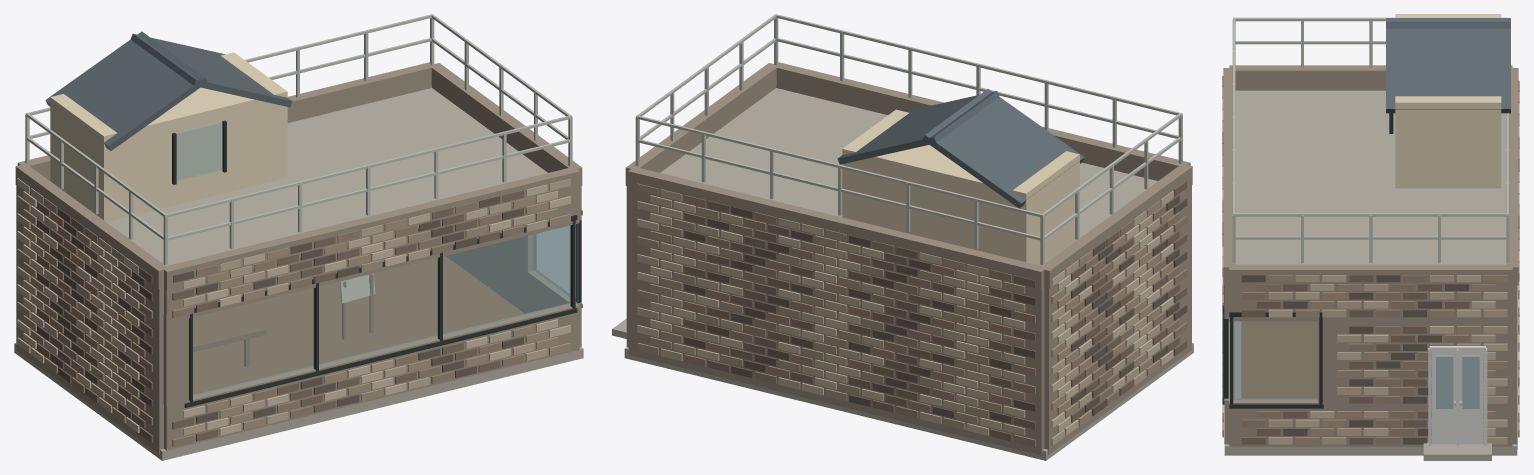
File: artist-workshop-180.glb
The picture shows the model from 3 angles, left to right: view 1: azimuth 30°, elevation 25°; view 2: azimuth 150°, elevation 25°; view 3: azimuth 270°, elevation 25°; orthographic projection.
Parts seen in each view (by area): view 1: front-clear-glass, roof-terrace-floor, upper-studio-walls, interior-floor, brick-color-5, brick-color-1, front-lower-brick, brick-color-2, brick-color-3, roof-left-slope, brick-color-4, brick-color-6 (+18 smaller); view 2: rear-wall, upper-studio-walls, roof-terrace-floor, brick-color-1, brick-color-5, brick-color-3, brick-color-2, brick-color-6, brick-color-4, rear-parapet, roof-left-slope, left-wall (+7 smaller); view 3: roof-terrace-floor, upper-studio-walls, roof-right-slope, side-clear-glass, right-rear-brick, interior-floor, right-lower-brick, brick-color-5, brick-color-6, right-upper-brick, right-parapet, brick-color-3 (+21 smaller).
Boxes of the visible parts, bbox=[...] form: front-clear-glass: bbox=[193, 225, 570, 397]; roof-terrace-floor: bbox=[107, 88, 547, 265]; upper-studio-walls: bbox=[50, 52, 287, 222]; interior-floor: bbox=[193, 256, 524, 394]; brick-color-5: bbox=[17, 178, 570, 435]; brick-color-1: bbox=[17, 195, 570, 429]; front-lower-brick: bbox=[164, 303, 579, 450]; brick-color-2: bbox=[37, 190, 523, 442]; brick-color-3: bbox=[17, 178, 570, 435]; roof-left-slope: bbox=[45, 31, 207, 150]; brick-color-4: bbox=[37, 196, 523, 423]; brick-color-6: bbox=[37, 201, 523, 447]; rear-wall: bbox=[628, 189, 1044, 455]; upper-studio-walls: bbox=[842, 109, 1079, 265]; roof-terrace-floor: bbox=[660, 88, 1157, 237]; brick-color-1: bbox=[637, 183, 1173, 429]; brick-color-5: bbox=[637, 191, 1173, 435]; brick-color-3: bbox=[637, 189, 1173, 445]; brick-color-2: bbox=[684, 181, 1187, 441]; brick-color-6: bbox=[684, 195, 1187, 447]; brick-color-4: bbox=[684, 195, 1187, 423]; rear-parapet: bbox=[628, 168, 1046, 289]; roof-left-slope: bbox=[922, 89, 1084, 208]; left-wall: bbox=[1044, 185, 1191, 454]; roof-terrace-floor: bbox=[1235, 90, 1506, 264]; upper-studio-walls: bbox=[1395, 14, 1501, 188]; roof-right-slope: bbox=[1386, 18, 1510, 113]; side-clear-glass: bbox=[1233, 321, 1317, 400]; right-rear-brick: bbox=[1318, 313, 1512, 402]; interior-floor: bbox=[1241, 321, 1317, 398]; right-lower-brick: bbox=[1229, 398, 1512, 446]; brick-color-5: bbox=[1222, 110, 1519, 444]; brick-color-6: bbox=[1222, 87, 1519, 444]; right-upper-brick: bbox=[1229, 288, 1512, 321]; right-parapet: bbox=[1229, 264, 1512, 287]; brick-color-3: bbox=[1222, 98, 1519, 444].
Bounding box in the file's own units: 10.86 × 6.79 × 6.3.
